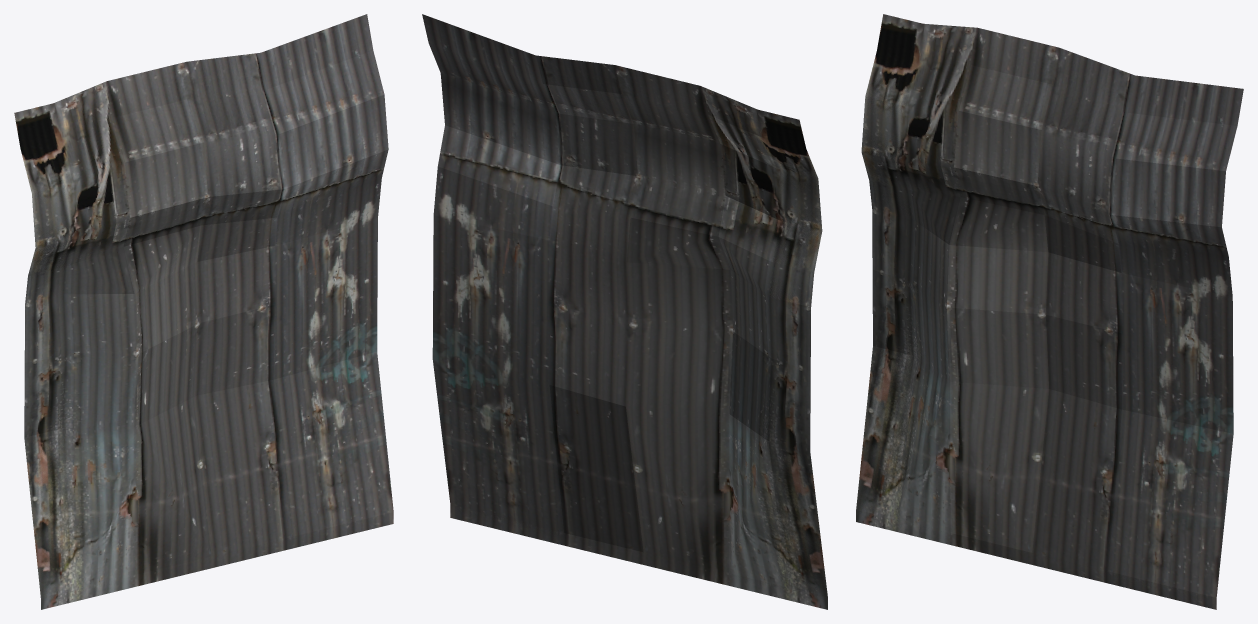
The model's file is metalpanelC.fbx.
3 renders of one model, left to right at view 1: azimuth 30°, elevation 25°; view 2: azimuth 150°, elevation 25°; view 3: azimuth 330°, elevation 25°, orthographic. The views are drawn at different scales.
Parts seen in each view (by area): view 1: Untitled; view 2: Untitled; view 3: Untitled.
Boxes of the visible parts, left/top/right/bottom form: Untitled: left=14, top=14, right=393, bottom=609; Untitled: left=422, top=14, right=827, bottom=609; Untitled: left=856, top=14, right=1243, bottom=609.
Size of the model in its own units: 57.42 by 76.26 by 8.52.
